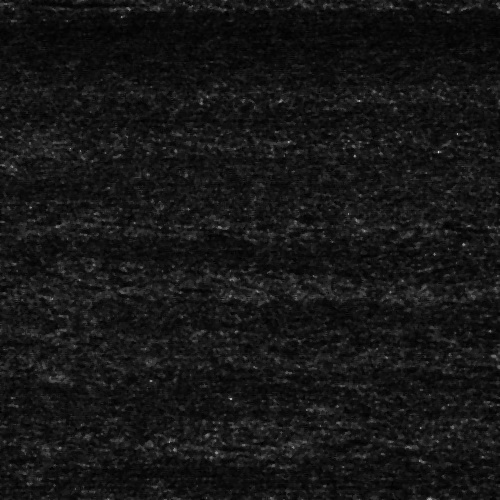object: (0, 0, 55, 4)
shadow: (9, 0, 107, 4)
